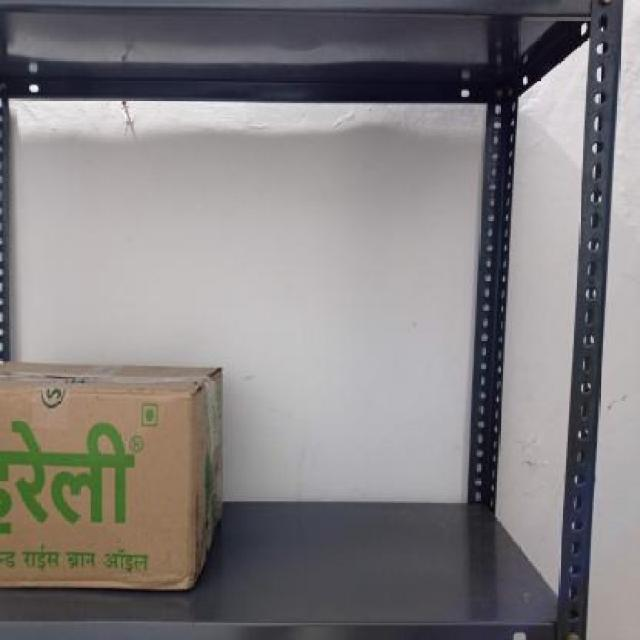box: (0, 389, 197, 586)
